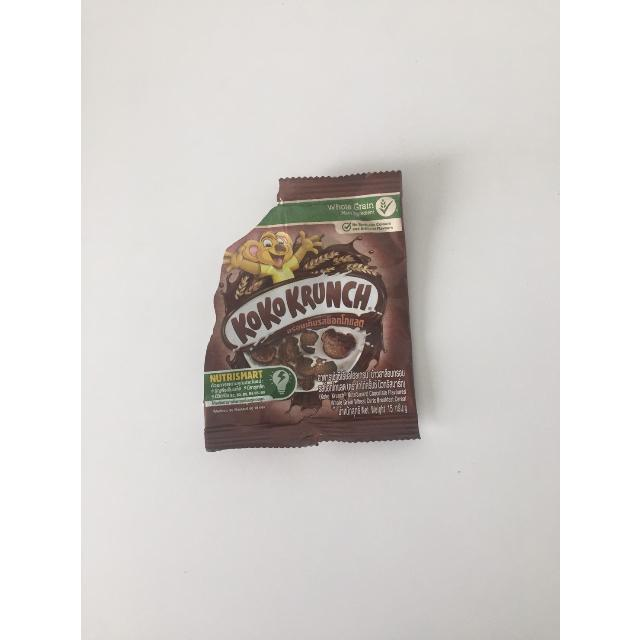Paquete de plastico: (206, 170, 421, 453)
